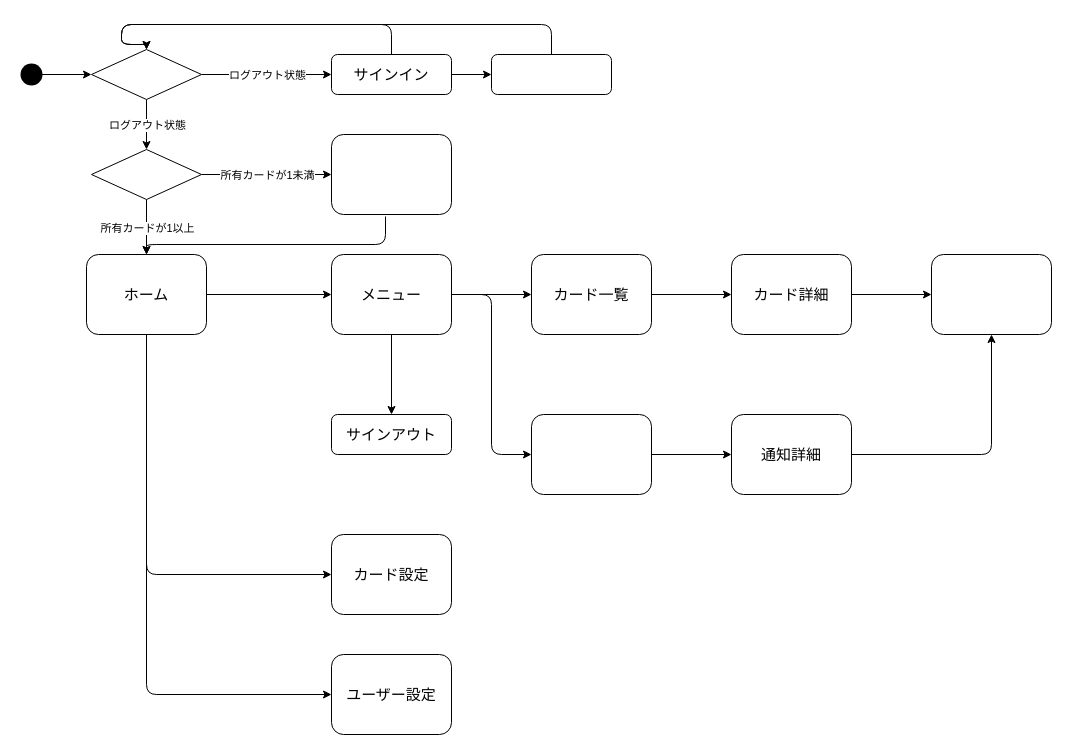
This 1069x752 diagram has some shape labels left out. Here are the shapes that lost their labels. From the top down, the centre of each, then its label:
At point 551,74: "サインアップ".
At point 391,174: "カード追加".
At point 991,294: "カード表示".
At point 591,454: "通知一覧".
